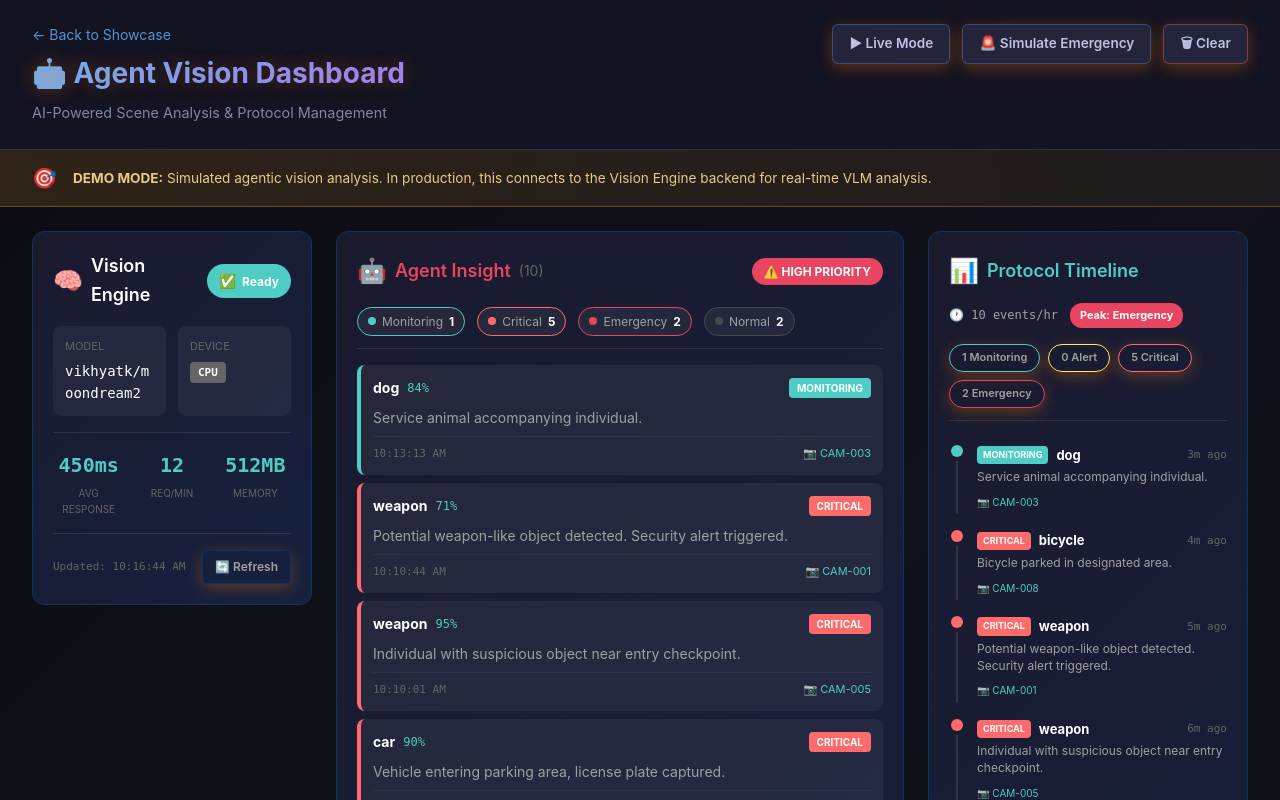
it: AgentVisionDashboard › live mode › stops when paused
The image size is (1280, 800).
# Enable then disable live mode
What coordinates should you click on to do the following:
click the button with test id "live-mode-toggle"
I would click on:
 (891, 44)
Its box is [832,24,950,64].
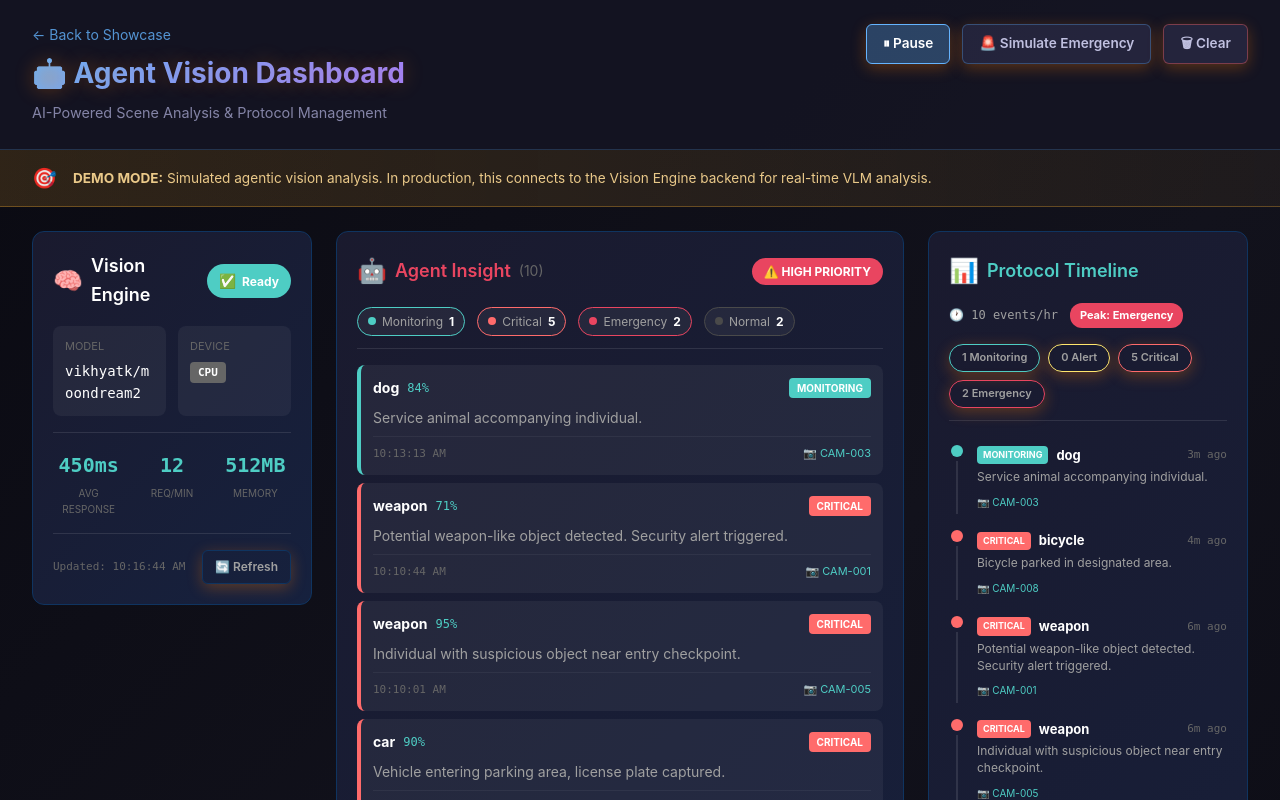
expect the button with test id "live-mode-toggle" shows "Pause": met
What coordinates should you click on to do the following:
click the button with test id "live-mode-toggle"
I would click on:
 (908, 44)
Its box is [866,24,950,64].
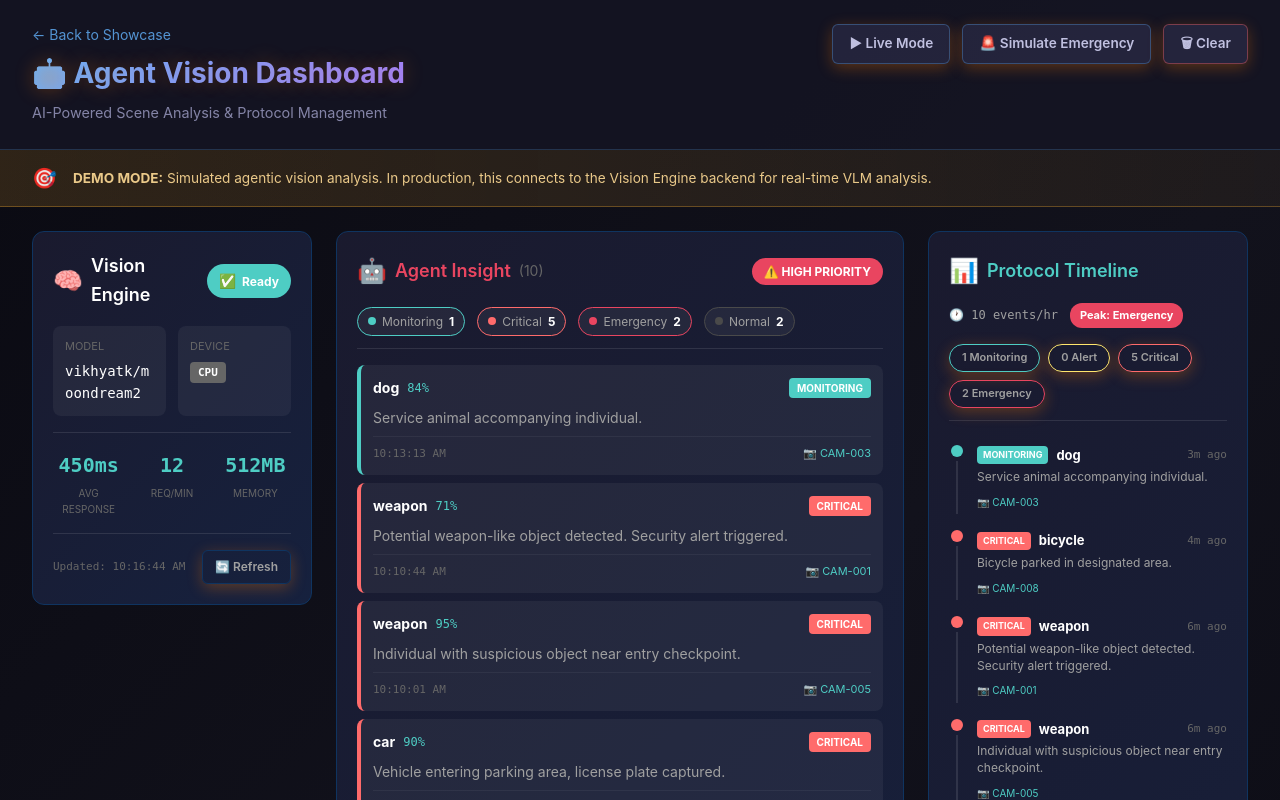
expect the button with test id "live-mode-toggle" shows "Live Mode": met, box [832,24,950,64]
